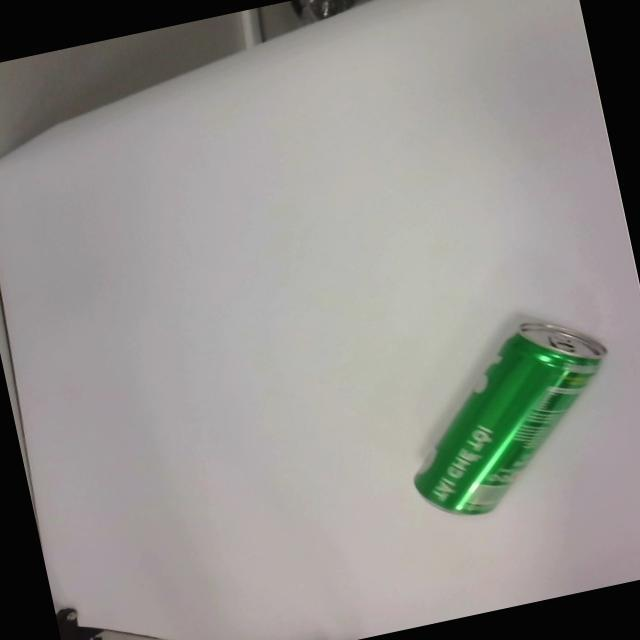debris: (384, 304, 636, 526)
